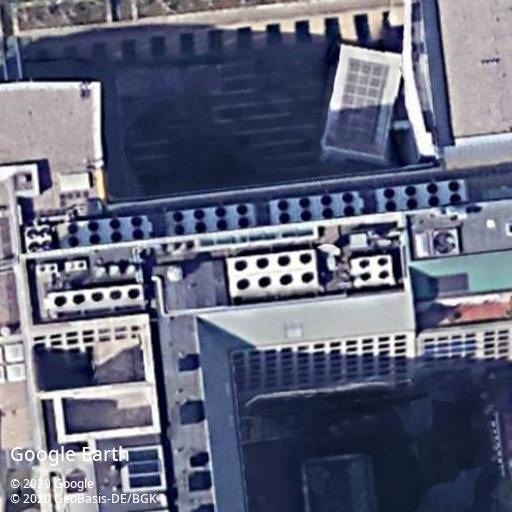Chiller: (225, 248, 319, 296), (269, 190, 367, 226), (375, 178, 469, 215), (57, 214, 153, 250), (164, 202, 257, 236), (43, 282, 146, 312), (349, 254, 395, 288), (24, 224, 55, 254), (64, 259, 88, 274), (34, 260, 58, 275)
